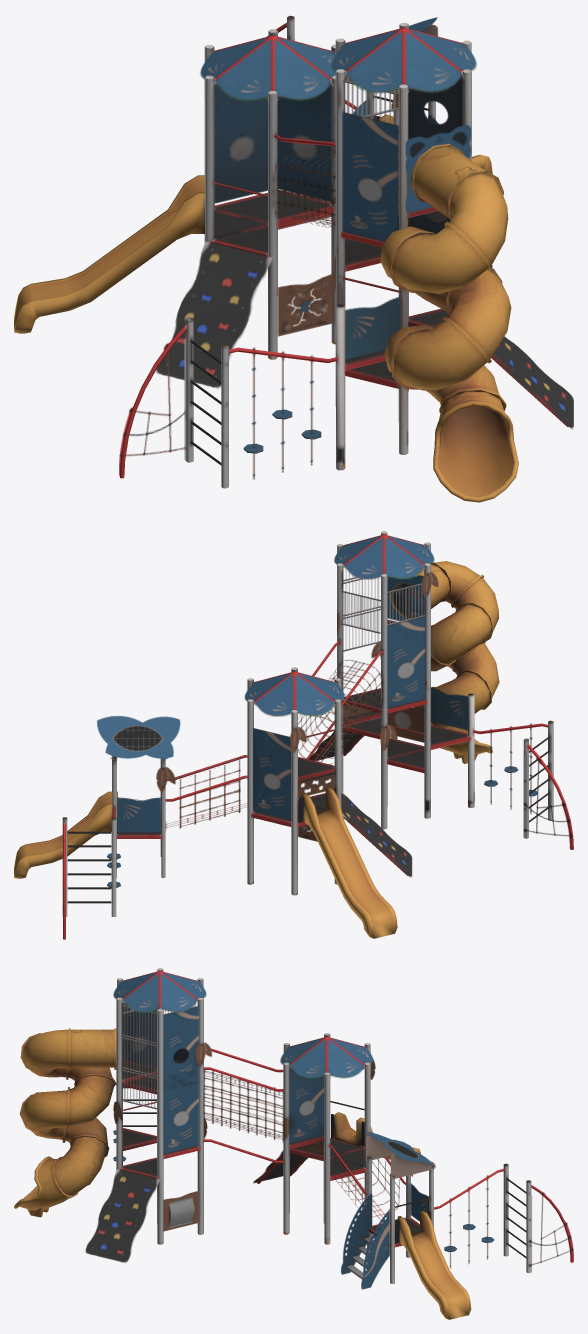
The model's file is low-poly-kids-playground-61c6f6.glb.
The picture shows the model from 3 angles, top to bottom: view 1: azimuth 30°, elevation 25°; view 2: azimuth 150°, elevation 25°; view 3: azimuth 270°, elevation 25°; orthographic projection. The views are drawn at different scales.
Parts seen in each view (by area): view 1: PropMesh; view 2: PropMesh; view 3: PropMesh.
Part boxes in pixels (x1=…): PropMesh: x1=14, y1=15, x2=573, y2=502; PropMesh: x1=14, y1=531, x2=573, y2=939; PropMesh: x1=14, y1=968, x2=573, y2=1319.
Bounding box in the file's own units: 3.45 × 2.2 × 4.41.
Materials: 2 (2 with a texture image).
